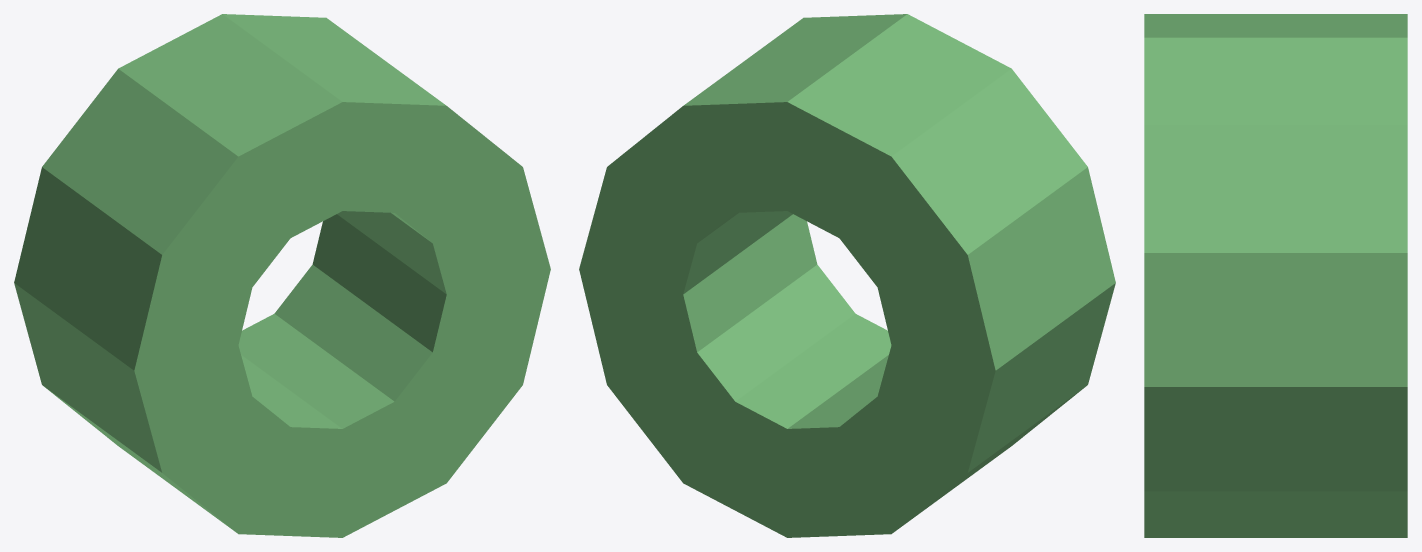
File: wheel2.glb
3 renders of one model, left to right at view 1: azimuth 30°, elevation 25°; view 2: azimuth 150°, elevation 25°; view 3: azimuth 270°, elevation 25°, orthographic. The views are drawn at different scales.
Parts seen in each view (by area): view 1: Mesh_Mesh_head_geo.001_lambert2SG.001; view 2: Mesh_Mesh_head_geo.001_lambert2SG.001; view 3: Mesh_Mesh_head_geo.001_lambert2SG.001.
Boxes of the visible parts, x1,y1,x2,y2 form: Mesh_Mesh_head_geo.001_lambert2SG.001: (14,14,550,537); Mesh_Mesh_head_geo.001_lambert2SG.001: (579,14,1115,537); Mesh_Mesh_head_geo.001_lambert2SG.001: (1144,14,1407,537).
Bounding box in the file's own units: 4 × 4 × 2.
